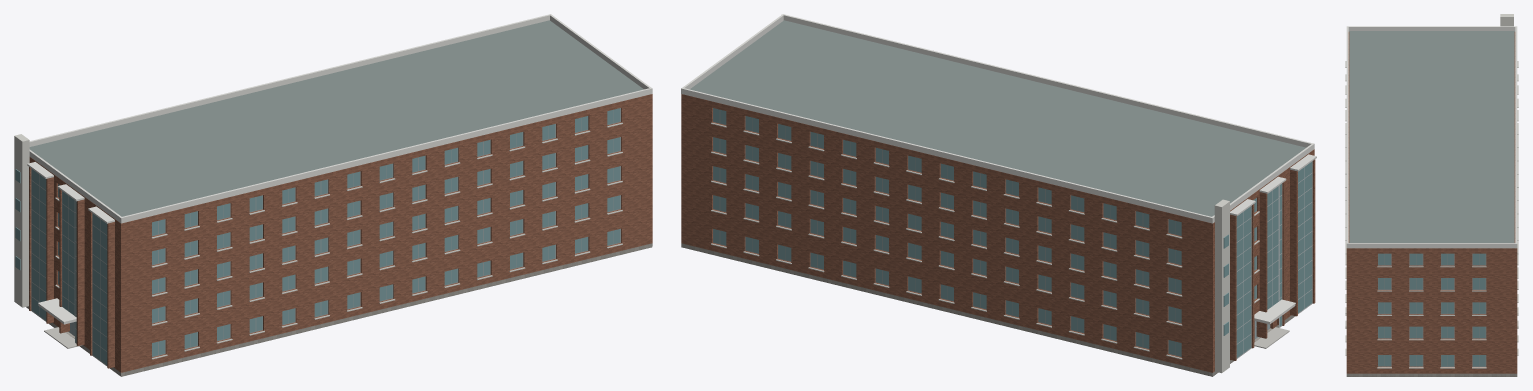
3 views of the same model, side by side, from view 1: azimuth 30°, elevation 25°; view 2: azimuth 150°, elevation 25°; view 3: azimuth 270°, elevation 25° (orthographic). The views are drawn at different scales.
Visible parts, largest first — view 1: formative__wall, formative__roof, formative__glass, formative__cap, formative__curtainglass, formative__band, formative__frame, formative__plinth, formative__mullion, formative__foundation; view 2: formative__wall, formative__roof, formative__glass, formative__cap, formative__curtainglass, formative__band, formative__frame, formative__plinth, formative__mullion, formative__foundation; view 3: formative__roof, formative__wall, formative__cap, formative__glass, formative__band, formative__frame, formative__plinth, formative__foundation.
Boxes of the visible parts, bbox=[...] form: formative__wall: bbox=[29, 94, 652, 372]; formative__roof: bbox=[29, 20, 643, 216]; formative__glass: bbox=[15, 108, 620, 356]; formative__cap: bbox=[27, 14, 652, 322]; formative__curtainglass: bbox=[31, 169, 107, 365]; formative__band: bbox=[14, 122, 622, 359]; formative__frame: bbox=[58, 108, 620, 357]; formative__plinth: bbox=[27, 243, 652, 375]; formative__mullion: bbox=[31, 169, 107, 365]; formative__foundation: bbox=[26, 246, 652, 376]; formative__wall: bbox=[681, 94, 1315, 372]; formative__roof: bbox=[690, 20, 1305, 216]; formative__glass: bbox=[713, 108, 1256, 356]; formative__cap: bbox=[681, 14, 1316, 322]; formative__curtainglass: bbox=[1236, 161, 1312, 357]; formative__band: bbox=[711, 122, 1259, 373]; formative__frame: bbox=[713, 108, 1256, 356]; formative__plinth: bbox=[681, 243, 1294, 375]; formative__mullion: bbox=[1236, 161, 1312, 358]; formative__foundation: bbox=[681, 243, 1312, 376]; formative__roof: bbox=[1349, 31, 1514, 242]; formative__wall: bbox=[1346, 32, 1517, 373]; formative__cap: bbox=[1346, 26, 1517, 248]; formative__glass: bbox=[1378, 253, 1485, 366]; formative__band: bbox=[1345, 14, 1518, 368]; formative__frame: bbox=[1378, 253, 1486, 366]; formative__plinth: bbox=[1346, 373, 1516, 375]; formative__foundation: bbox=[1346, 373, 1517, 376].
Size of the model in its own units: 69.59 by 20.48 by 22.53.
14 materials, 4 textured.
